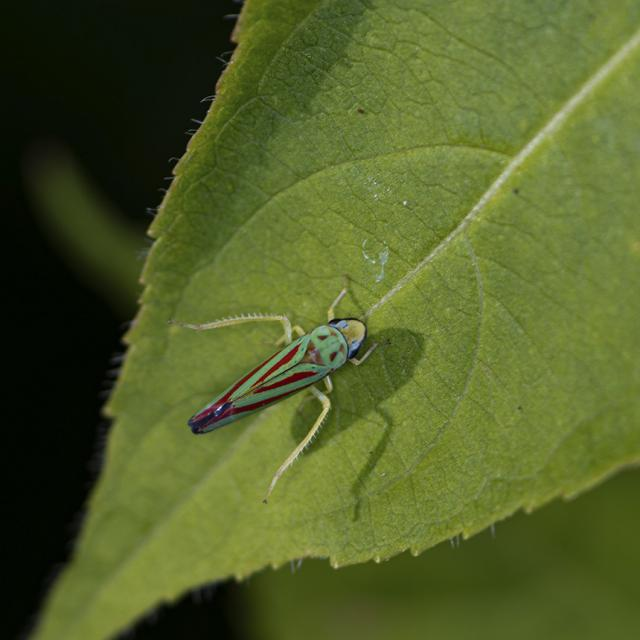Yechan: (162, 270, 394, 468)
